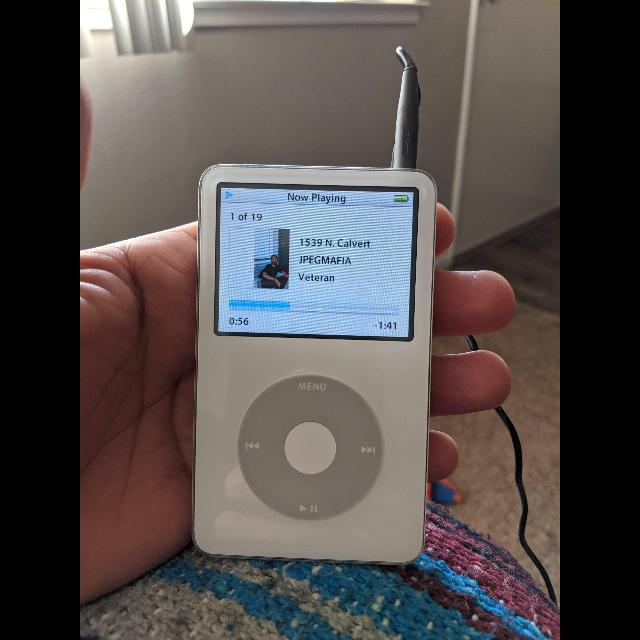Music-Player: (180, 143, 442, 582)
